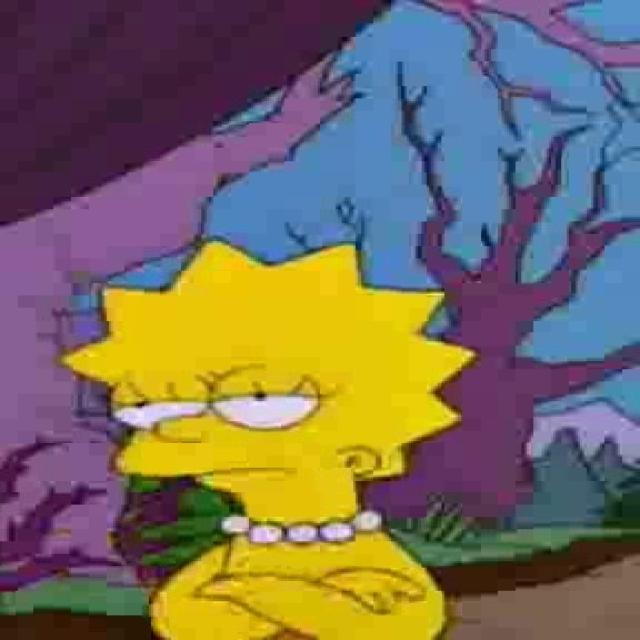Lisa Simpson: (58, 236, 476, 542)
